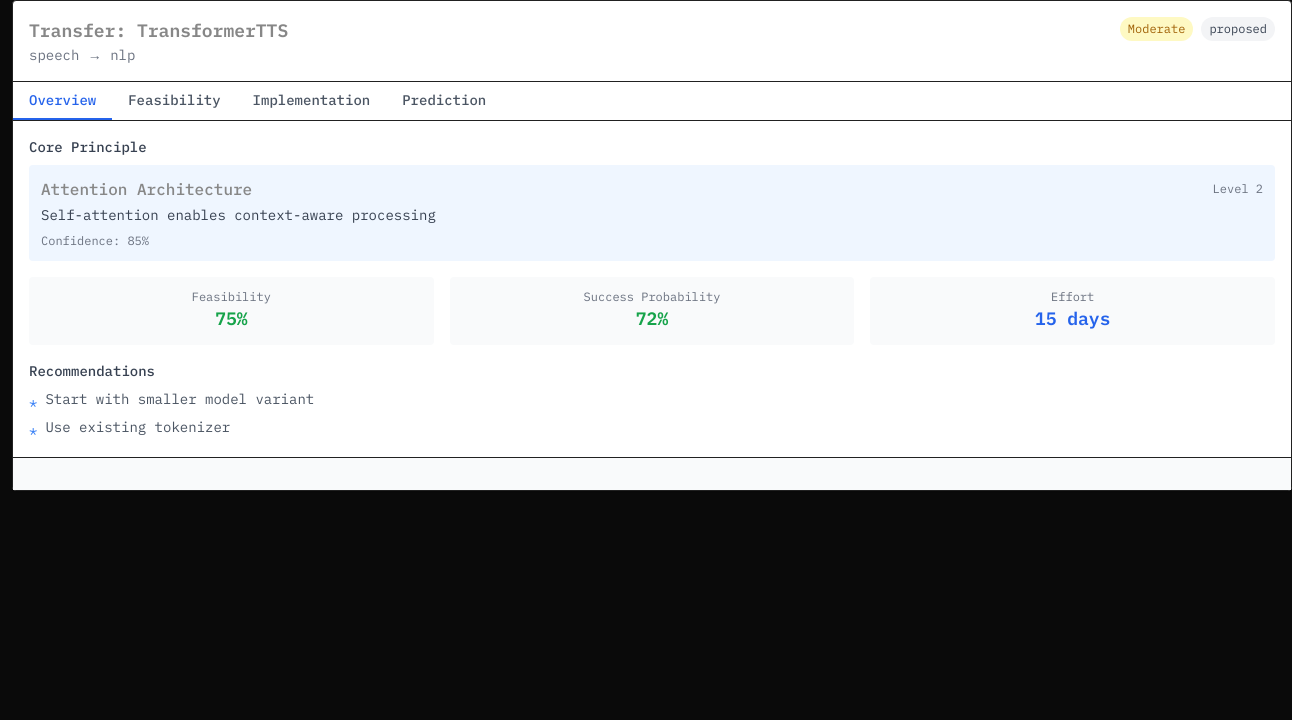
it: TransferProposal › should display implementation steps
This screenshot has width=1292, height=720.
Click the button "Implementation": (311, 101) [237,82,386,120]
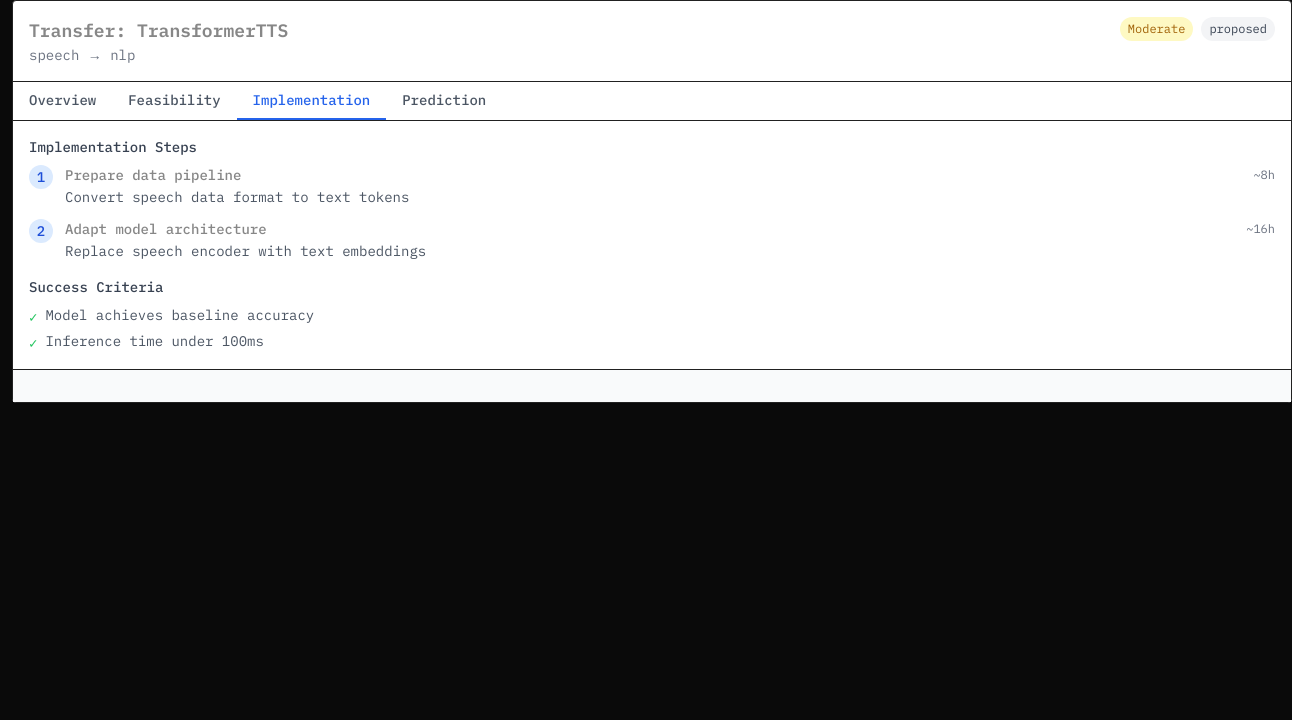
Now the text "Prepare data pipeline" is shown, box [65,165,241,185]
Now the text "Adapt model architecture" is shown, box [65,219,267,239]
